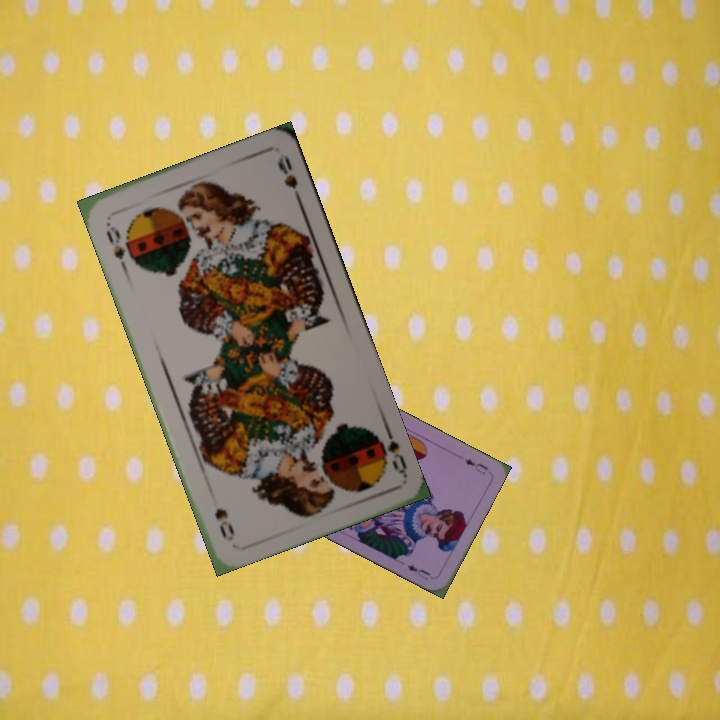EU: (460, 454, 491, 477)
SO: (369, 421, 410, 479), (101, 218, 135, 273)
